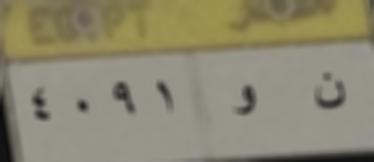0: (70, 90, 96, 121)
1: (150, 76, 181, 118)
4: (26, 80, 54, 130)
9: (110, 76, 138, 121)
noon: (310, 68, 352, 115)
waw: (228, 78, 263, 122)
